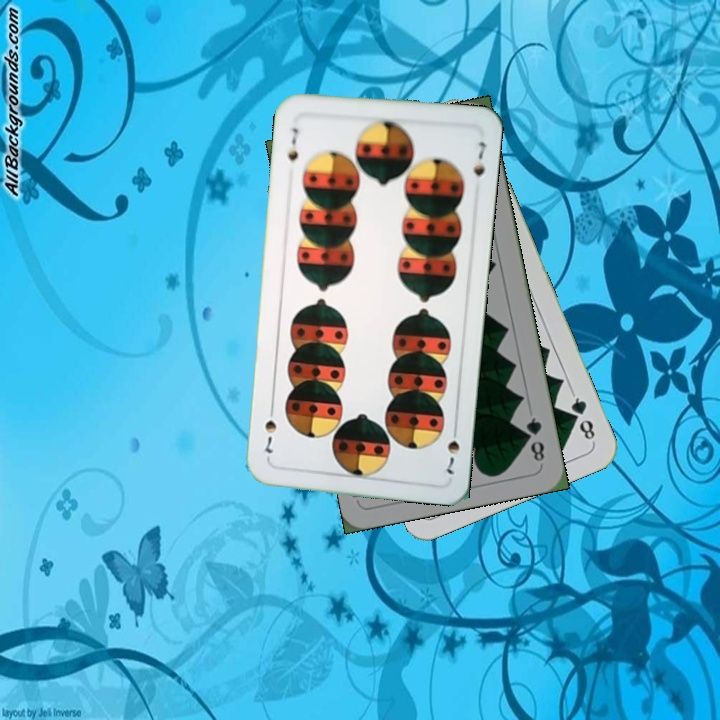G8: (567, 389, 598, 445), (521, 413, 547, 464)
S7: (442, 420, 462, 477), (283, 123, 302, 165)
